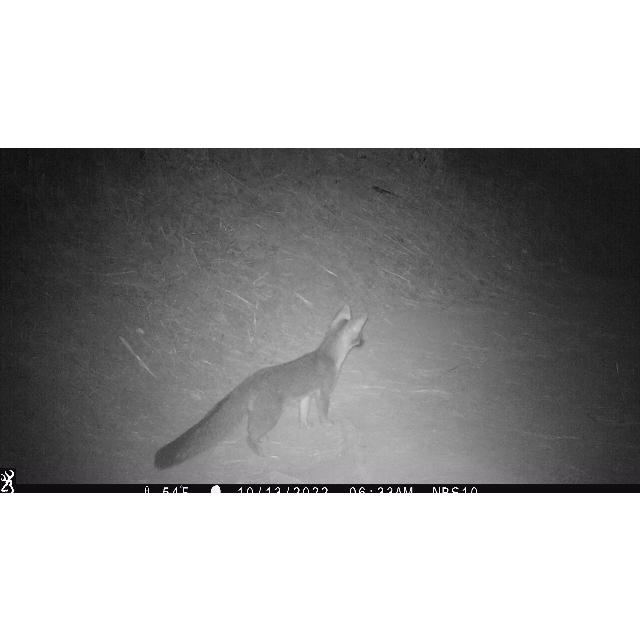animals: (154, 304, 370, 471)
